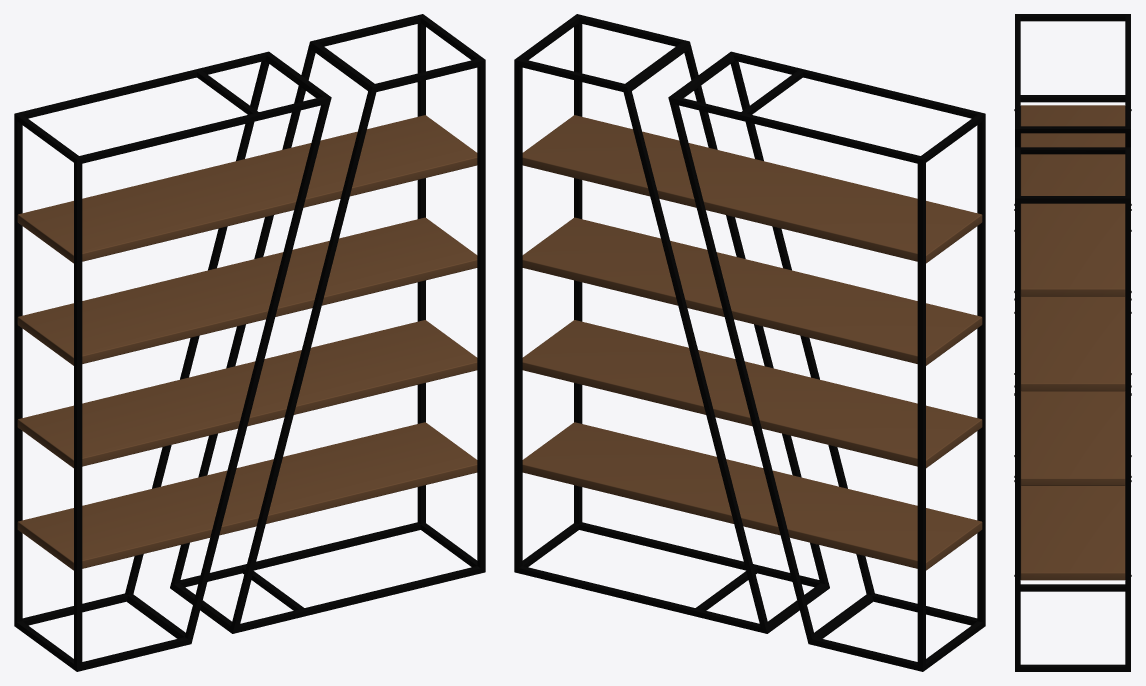
Rendered from Rack_Horizon__corona.fbx.
The picture shows the model from 3 angles, left to right: view 1: azimuth 30°, elevation 25°; view 2: azimuth 150°, elevation 25°; view 3: azimuth 270°, elevation 25°; orthographic projection. The views are drawn at different scales.
Visible parts, largest first — view 1: Rack_Horizon_002, Rack_Horizon_001; view 2: Rack_Horizon_002, Rack_Horizon_001; view 3: Rack_Horizon_002, Rack_Horizon_001.
Part boxes in pixels (<box>): Rack_Horizon_002: <box>17,115,477,570</box>; Rack_Horizon_001: <box>14,14,485,671</box>; Rack_Horizon_002: <box>522,115,982,570</box>; Rack_Horizon_001: <box>514,14,985,671</box>; Rack_Horizon_002: <box>1020,105,1125,580</box>; Rack_Horizon_001: <box>1014,14,1131,671</box>.
Bounding box in the file's own units: 150 × 180 × 40.47.
